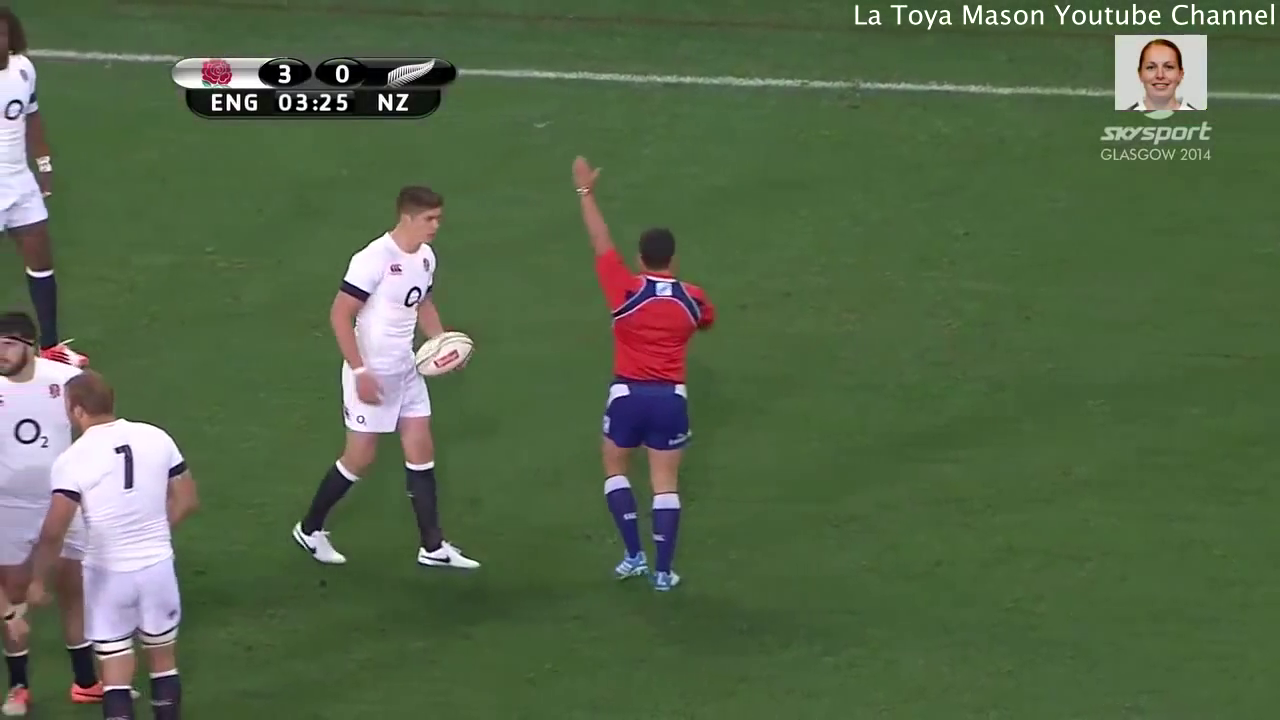ball: (405, 312, 485, 390)
player: (275, 168, 484, 576), (4, 346, 230, 720), (556, 143, 725, 611), (1, 304, 117, 720), (1, 1, 116, 376)
